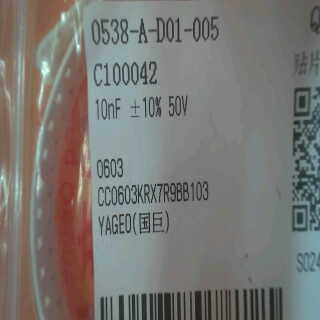10nF: (92, 93, 125, 122)
